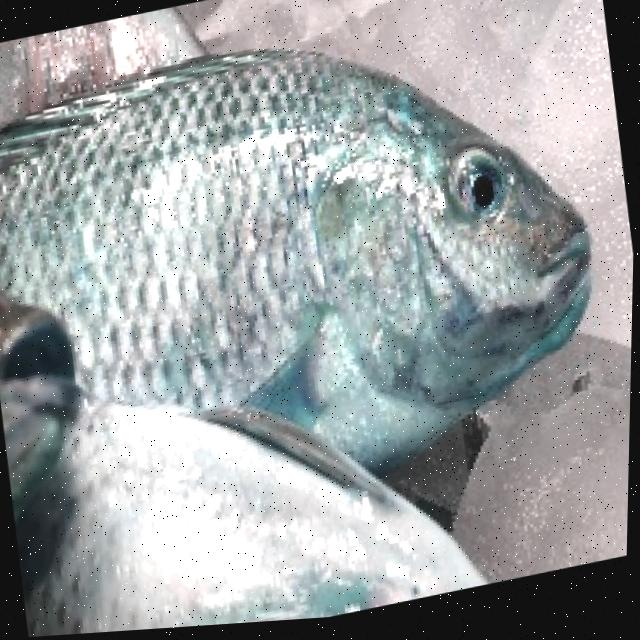Fresh: (0, 0, 628, 510)
